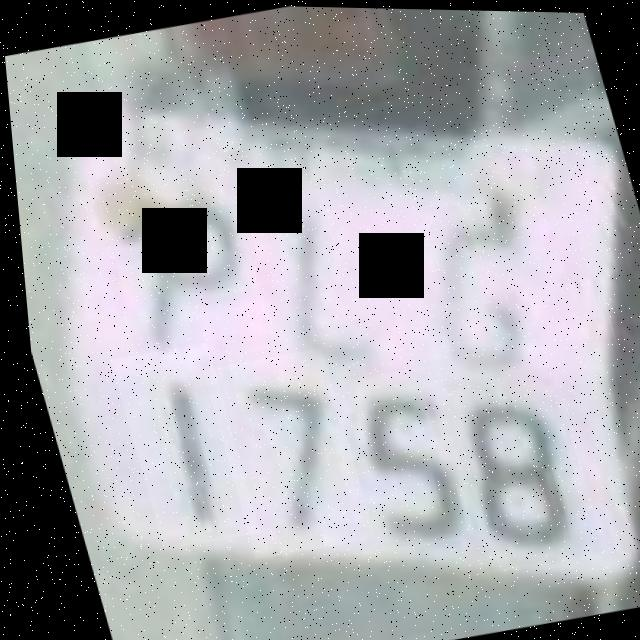1: (103, 340, 252, 551)
5: (307, 360, 480, 557)
7: (193, 345, 367, 561)
8: (414, 361, 594, 574)
P: (92, 171, 273, 373)
